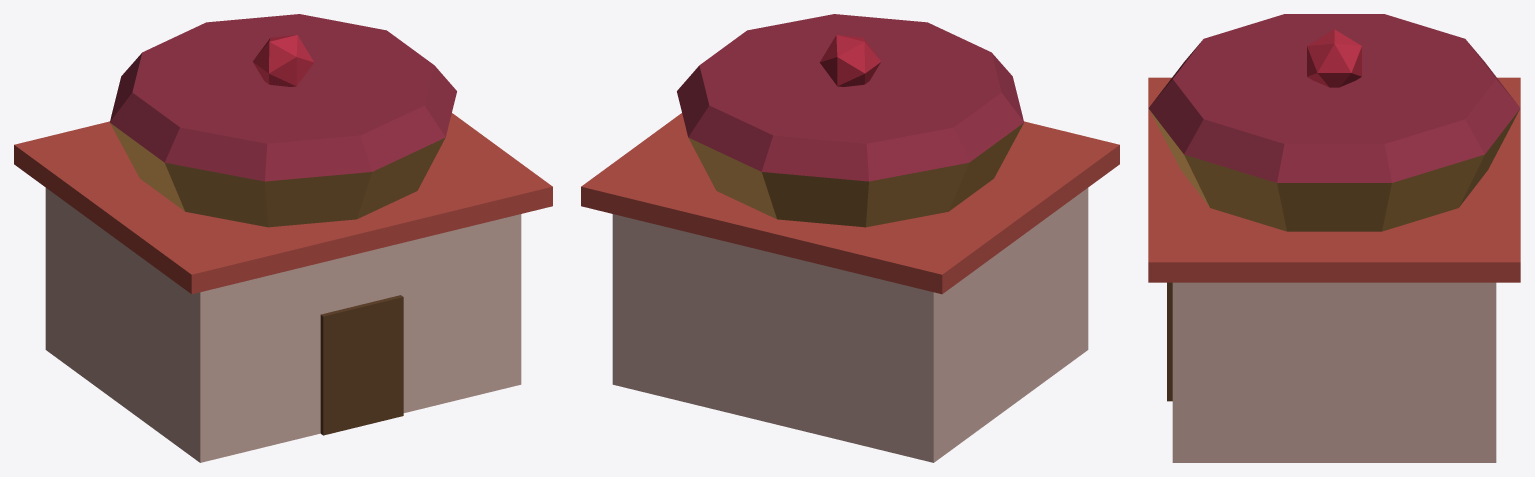
Rendered from pie-shop.glb.
The picture shows the model from 3 angles, left to right: view 1: azimuth 30°, elevation 25°; view 2: azimuth 150°, elevation 25°; view 3: azimuth 270°, elevation 25°; orthographic projection. The views are drawn at different scales.
Parts seen in each view (by area): view 1: pie_shop; view 2: pie_shop; view 3: pie_shop.
Part boxes in pixels (x1=…): pie_shop: x1=14, y1=14, x2=552, y2=462; pie_shop: x1=581, y1=14, x2=1119, y2=462; pie_shop: x1=1148, y1=14, x2=1520, y2=462.
Size of the model in its own units: 0.27 by 0.235 by 0.23.
